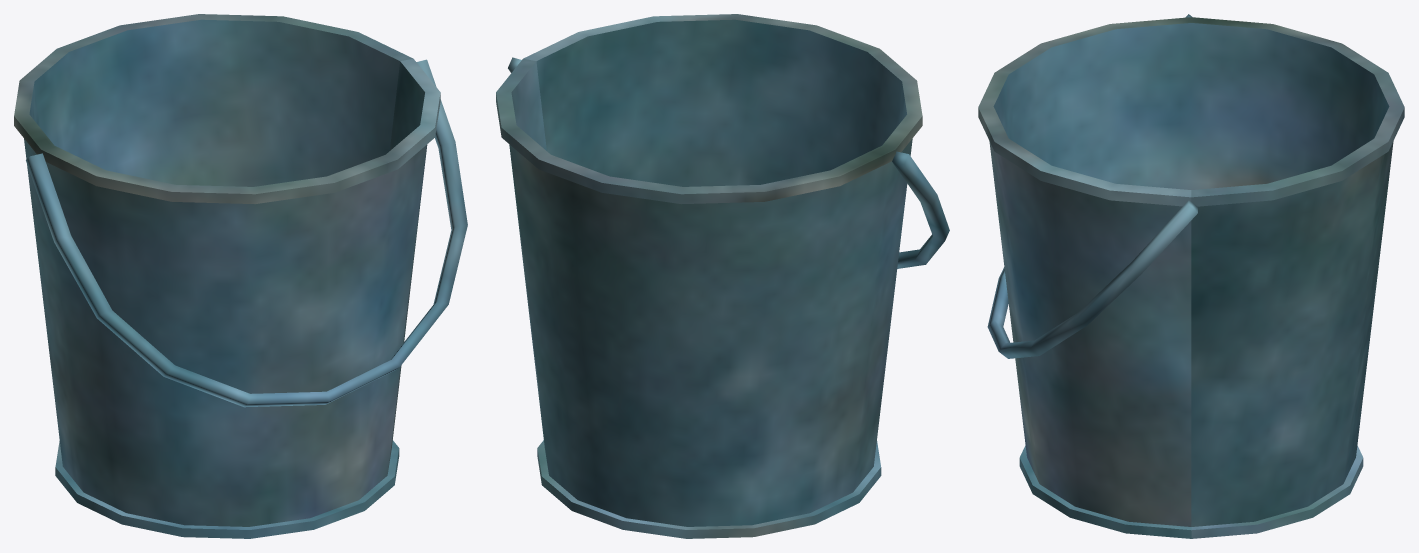
The model's file is bucket.fbx.
3 views of the same model, side by side, from view 1: azimuth 30°, elevation 25°; view 2: azimuth 150°, elevation 25°; view 3: azimuth 270°, elevation 25° (orthographic).
Parts seen in each view (by area): view 1: Pot.001; view 2: Pot.001; view 3: Pot.001.
Boxes of the visible parts, x1,y1,x2,y2 form: Pot.001: (14, 14, 467, 538); Pot.001: (496, 14, 949, 538); Pot.001: (978, 14, 1404, 538).
Size of the model in its own units: 2.58 by 2.25 by 2.42.
